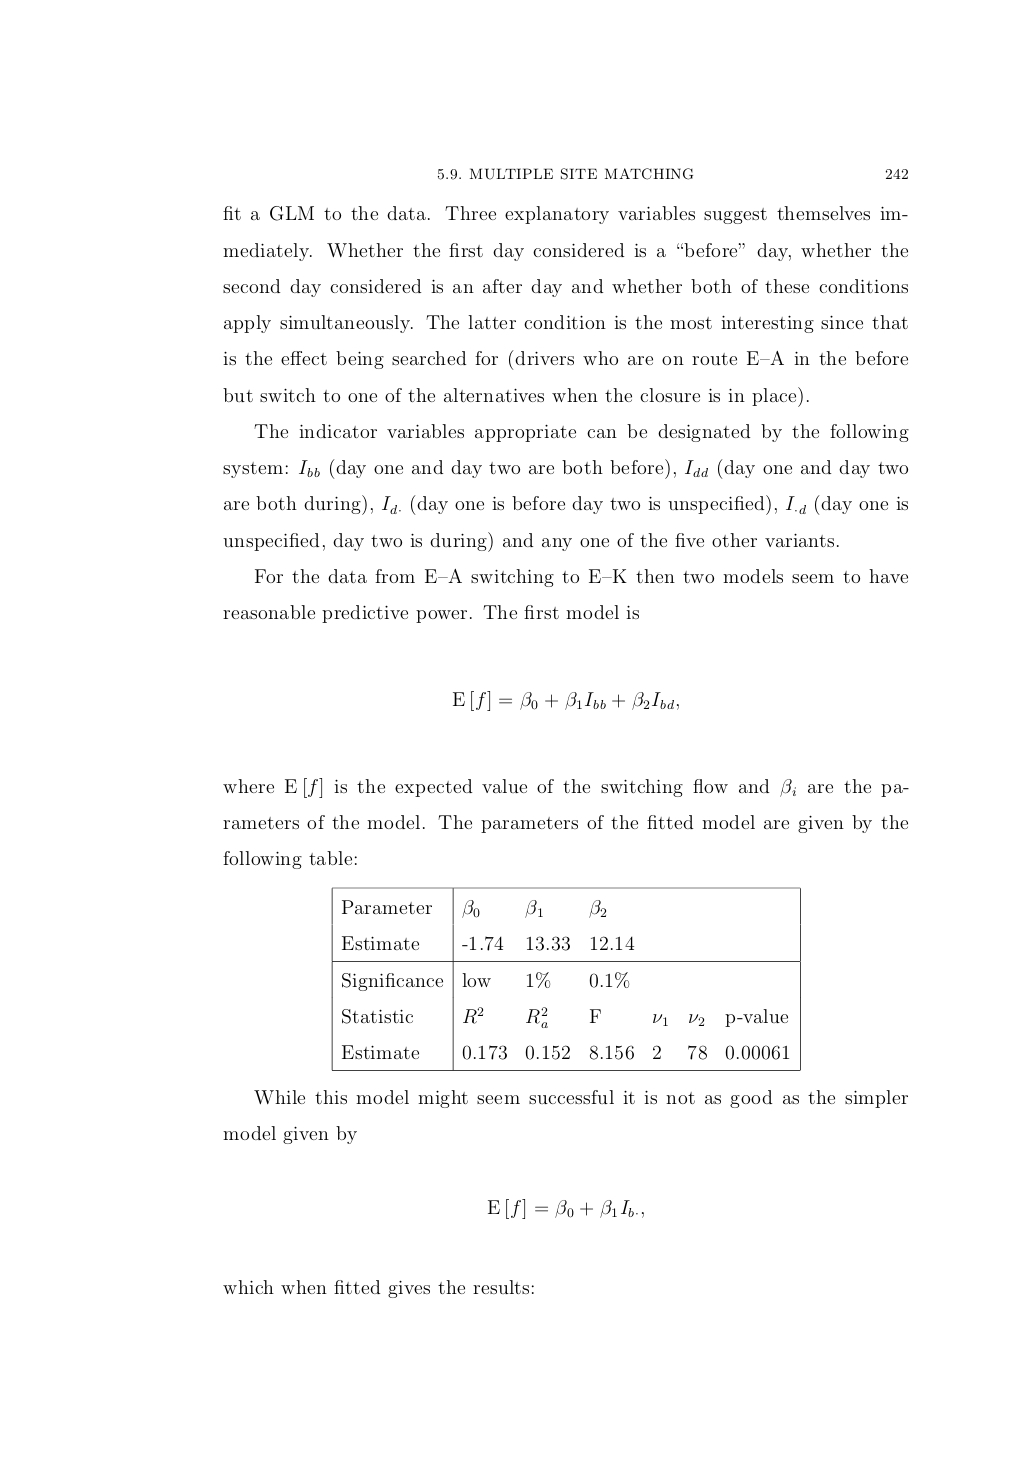Table: (331, 885, 800, 1071)
formula: (452, 690, 678, 711), (486, 1198, 643, 1219)
